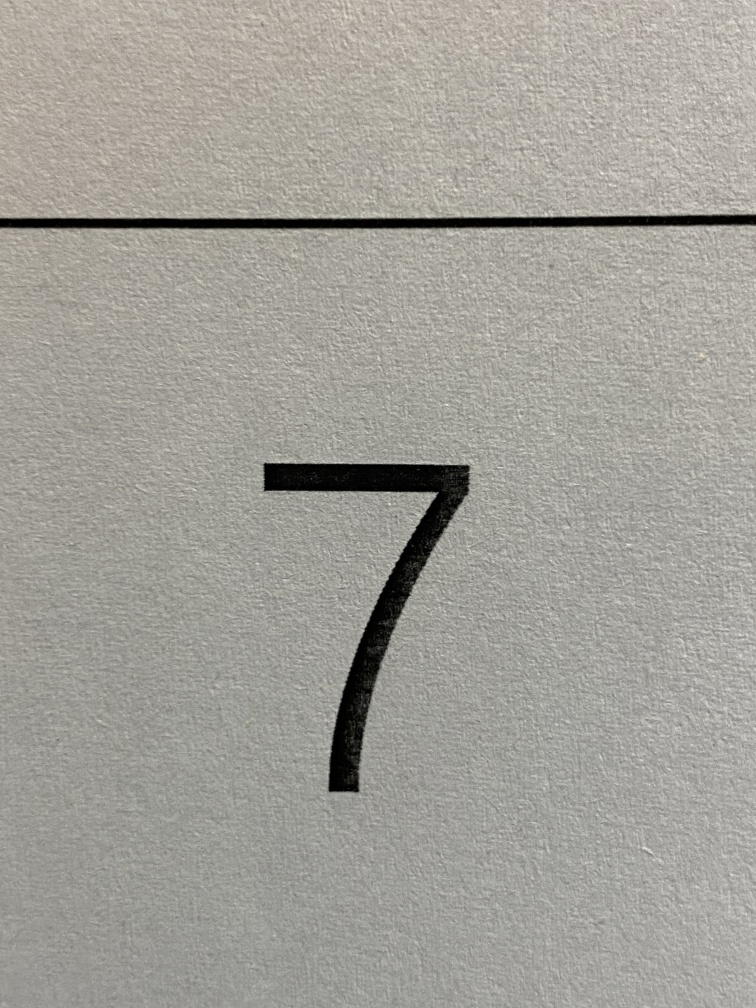seven: (206, 407, 549, 856)
